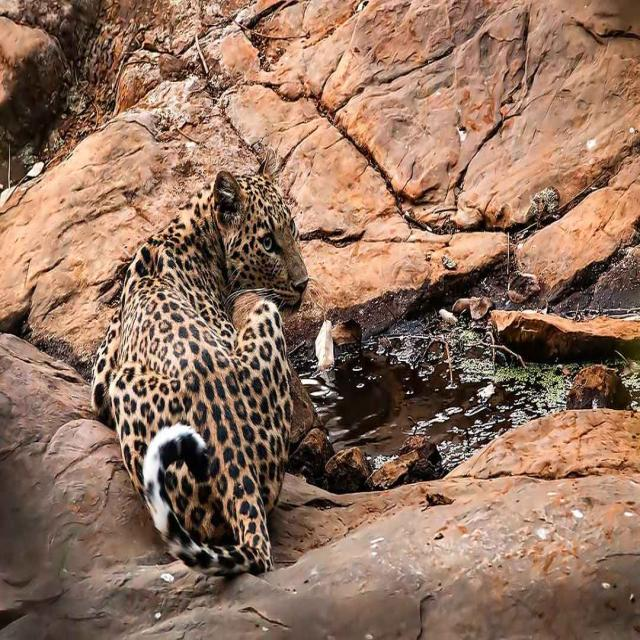Leopard: (87, 175, 308, 589)
